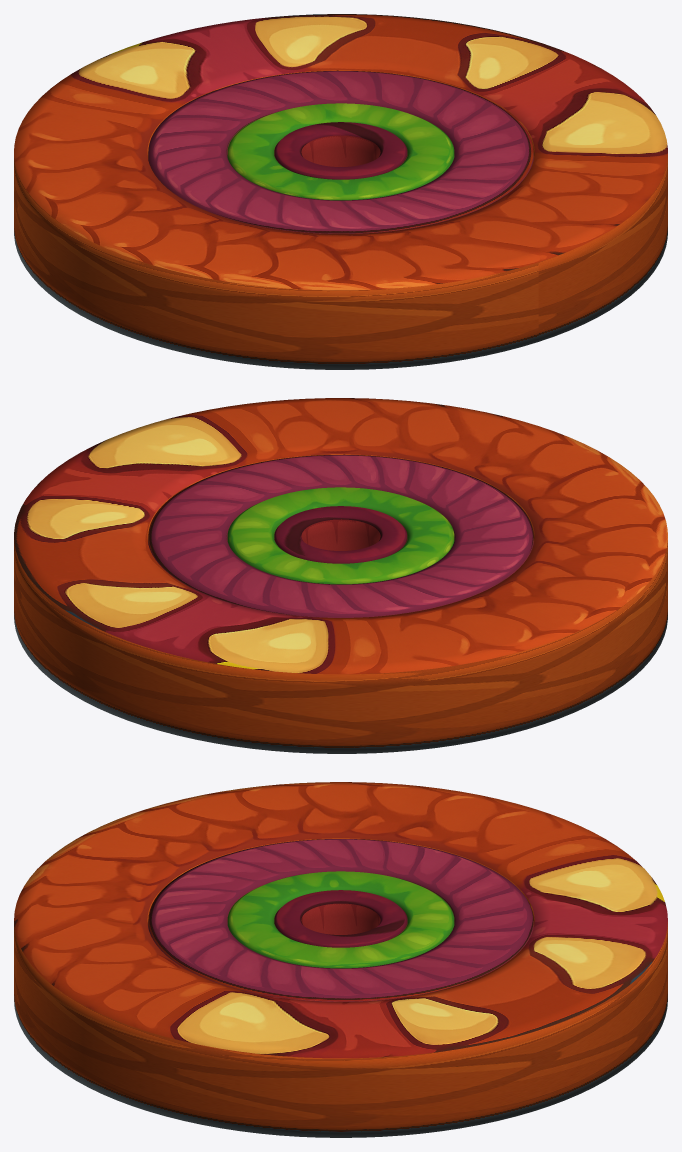
The model's file is Environment.fbx.
The picture shows the model from 3 angles, top to bottom: view 1: azimuth 30°, elevation 25°; view 2: azimuth 150°, elevation 25°; view 3: azimuth 270°, elevation 25°; orthographic projection.
Parts seen in each view (by area): view 1: Circunferencia1, Circunferencia2, Circunferencia3, Circunferencia4; view 2: Circunferencia1, Circunferencia2, Circunferencia3, Circunferencia4; view 3: Circunferencia1, Circunferencia2, Circunferencia3, Circunferencia4.
Part boxes in pixels (x1=…): Circunferencia1: x1=14, y1=14, x2=667, y2=369; Circunferencia2: x1=148, y1=70, x2=533, y2=233; Circunferencia3: x1=227, y1=103, x2=454, y2=200; Circunferencia4: x1=274, y1=122, x2=407, y2=179; Circunferencia1: x1=14, y1=398, x2=667, y2=753; Circunferencia2: x1=148, y1=454, x2=533, y2=617; Circunferencia3: x1=227, y1=487, x2=454, y2=584; Circunferencia4: x1=274, y1=506, x2=407, y2=563; Circunferencia1: x1=14, y1=782, x2=667, y2=1137; Circunferencia2: x1=148, y1=839, x2=533, y2=1001; Circunferencia3: x1=227, y1=871, x2=454, y2=968; Circunferencia4: x1=274, y1=890, x2=407, y2=947.
Size of the model in its own units: 67.42 by 10 by 67.42.
Materials: 2 (2 with a texture image).
